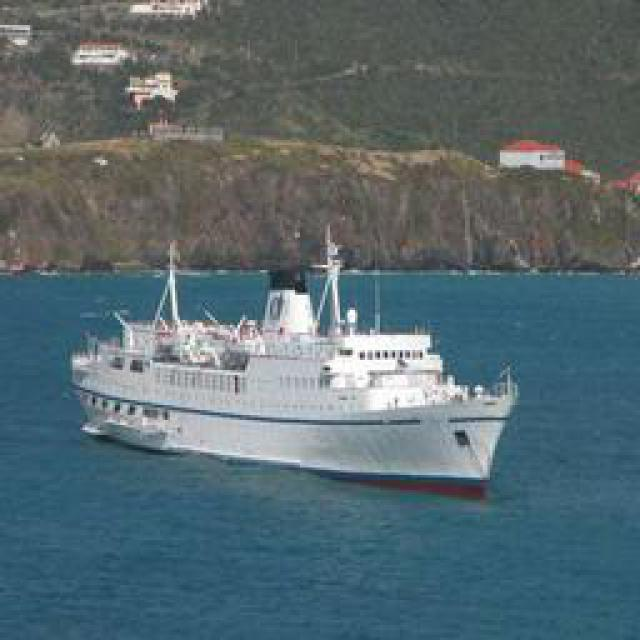Ship: (70, 250, 520, 495)
